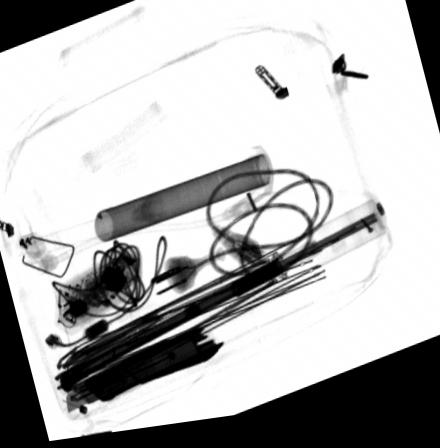Knife: (65, 330, 226, 416)
